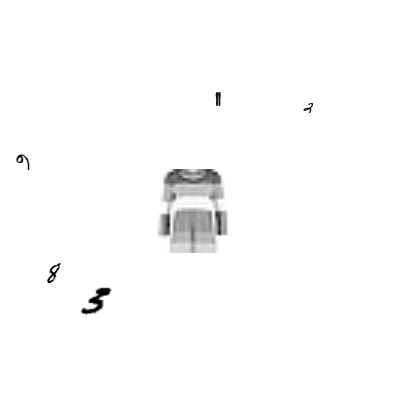2: (302, 101, 316, 115)
3: (75, 279, 117, 321)
8: (39, 259, 67, 287)
9: (12, 149, 34, 171)
Pullover: (149, 169, 233, 253)
Trouser: (211, 92, 225, 106)
